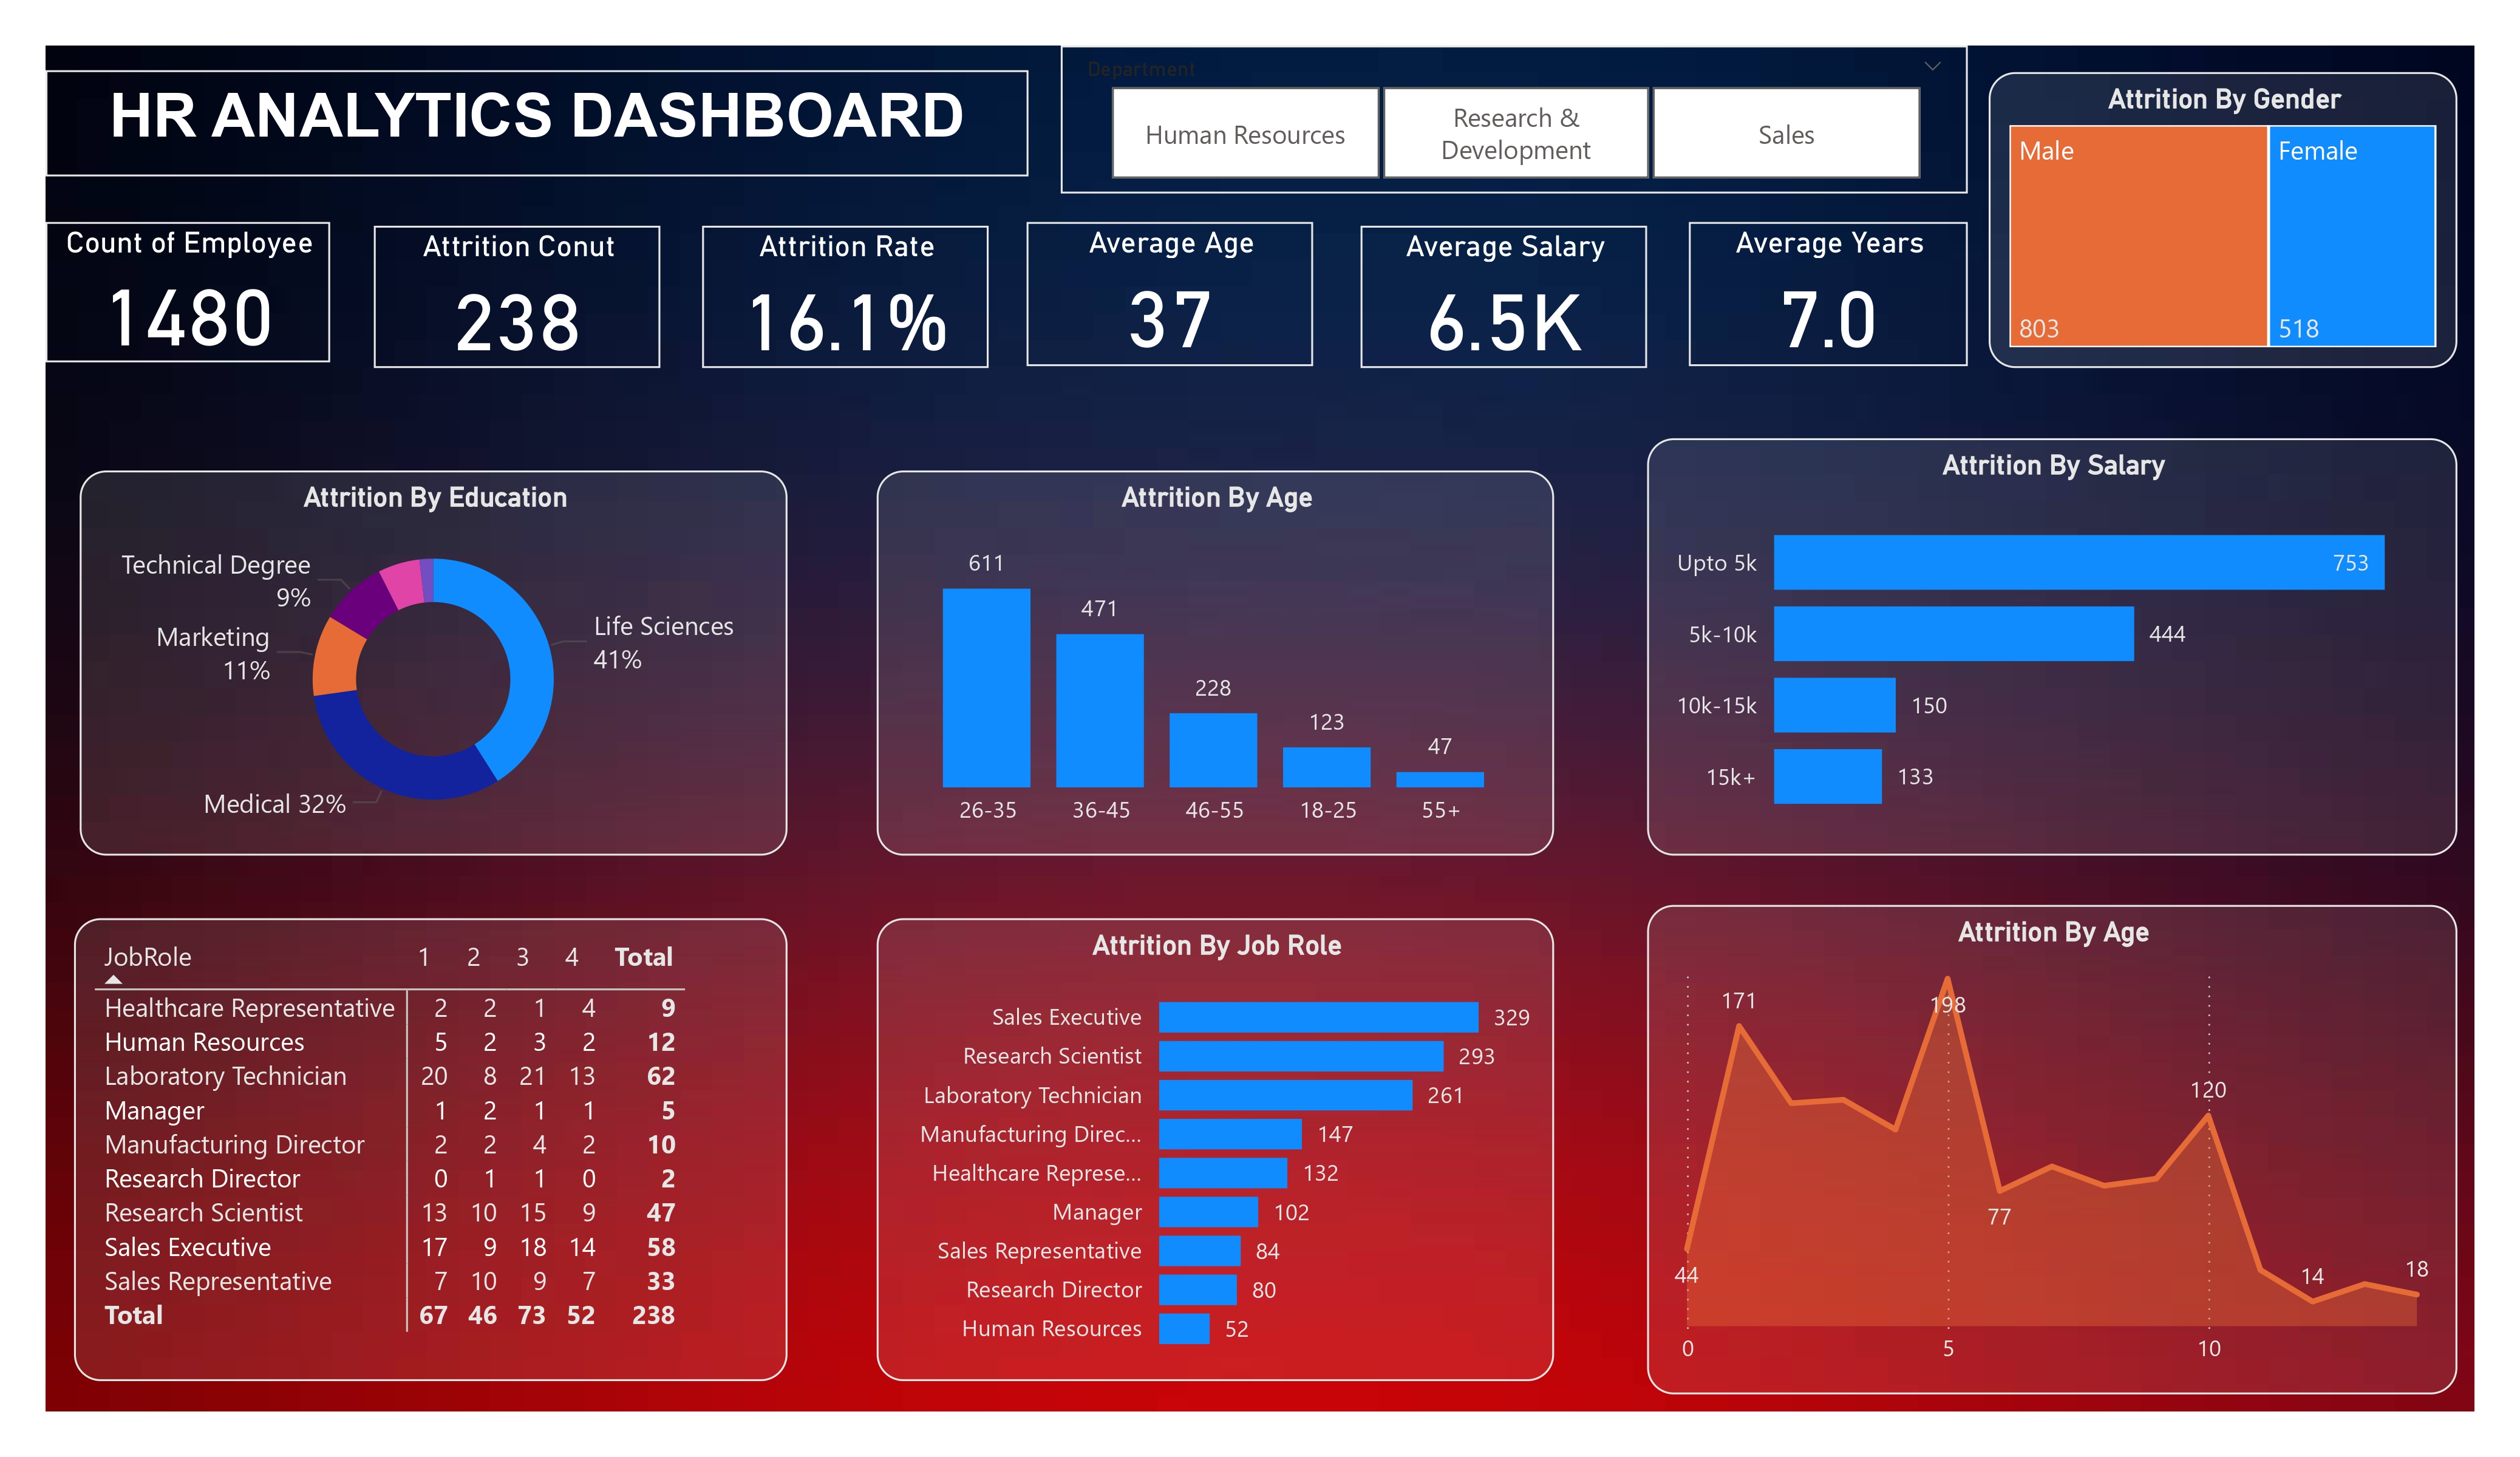

This screenshot's page, from the dashboard's own definition file:
{"tool":"powerbi","page":{"name":"Page 1","canvas":[1280,720],"ordinal":0},"visuals":[{"type":"card","title":"Count of Employee","fields":{"Values":["CountNonNull(HR_Analytics.EmpID)"]},"box":[0,92.9,155.6,77.2],"z":0},{"type":"card","title":"Attrition Conut","fields":{"Values":["Sum(HR_Analytics.AttritionCount)"]},"box":[172.9,94.7,150.9,75.5],"z":1000},{"type":"card","title":"Attrition Rate","fields":{"Values":["HR_Analytics.AttritionRate"]},"box":[345.8,94.7,150.9,75.5],"z":2000},{"type":"card","title":"Average Age","fields":{"Values":["Avg(HR_Analytics.Age)"]},"box":[517.3,93.3,150.9,75.5],"z":3000},{"type":"card","title":"Average Salary","fields":{"Values":["Avg(HR_Analytics.MonthlyIncome)"]},"box":[693,94.7,150.9,75.5],"z":4000},{"type":"card","title":"Average Years","fields":{"Values":["Avg(HR_Analytics.YearsAtCompany)"]},"box":[865.9,93.3,146.8,75.5],"z":5000},{"type":"donutChart","title":"Attrition By Education","fields":{"Category":["HR_Analytics.EducationField"],"Y":["CountNonNull(HR_Analytics.Attrition)"]},"box":[17.8,223.7,373.2,203.1],"z":6000},{"type":"clusteredColumnChart","title":"Attrition By Age","fields":{"Y":["CountNonNull(HR_Analytics.Attrition)"],"Category":["HR_Analytics.AgeGroup"]},"box":[437.7,223.7,356.8,203.1],"z":7000},{"type":"pivotTable","fields":{"Rows":["HR_Analytics.JobRole"],"Columns":["HR_Analytics.JobSatisfaction"],"Values":["Sum(HR_Analytics.AttritionCount)"]},"box":[15.1,459.7,376,244.3],"z":8000},{"type":"barChart","title":"Attrition By Job Role","fields":{"Y":["CountNonNull(HR_Analytics.Attrition)"],"Category":["HR_Analytics.JobRole"]},"box":[437.7,459.7,356.8,244.3],"z":9000},{"type":"barChart","title":"Attrition By Salary","fields":{"Category":["HR_Analytics.SalarySlab"],"Y":["CountNonNull(HR_Analytics.Attrition)"]},"box":[843.9,207.2,426.8,219.6],"z":10000},{"type":"areaChart","title":"Attrition By Age","fields":{"Category":["HR_Analytics.YearsAtCompany"],"Y":["CountNonNull(HR_Analytics.Attrition)"]},"box":[843.9,452.8,426.8,258],"z":11000},{"type":"treemap","title":"Attrition By Gender","fields":{"Group":["HR_Analytics.Gender"],"Values":["CountNonNull(HR_Analytics.Attrition)"]},"box":[1023.7,13.7,247,156.4],"z":12000},{"type":"slicer","fields":{"Values":["HR_Analytics.Department"]},"box":[535.2,0,477.5,78.2],"z":13000},{"type":"textbox","box":[0,13.3,517.6,55.5],"z":14000}]}

Visuals, with their boxes in screenshot pixels (x1, y1, x2, y2):
"Count of Employee" card: 46:222:341:368
"Attrition Conut" card: 373:225:660:368
"Attrition Rate" card: 702:225:988:368
"Average Age" card: 1027:223:1313:365
"Average Salary" card: 1361:225:1647:368
"Average Years" card: 1689:223:1967:365
"Attrition By Education" donutChart: 80:470:788:855
"Attrition By Age" clusteredColumnChart: 876:470:1553:855
pivotTable - HR_Analytics.JobRole x HR_Analytics.JobSatisfaction: 74:918:788:1381
"Attrition By Job Role" barChart: 876:918:1553:1381
"Attrition By Salary" barChart: 1647:438:2457:855
"Attrition By Age" areaChart: 1647:905:2457:1394
"Attrition By Gender" treemap: 1988:72:2457:368
slicer - HR_Analytics.Department: 1061:46:1967:194
textbox: 46:71:1027:176
